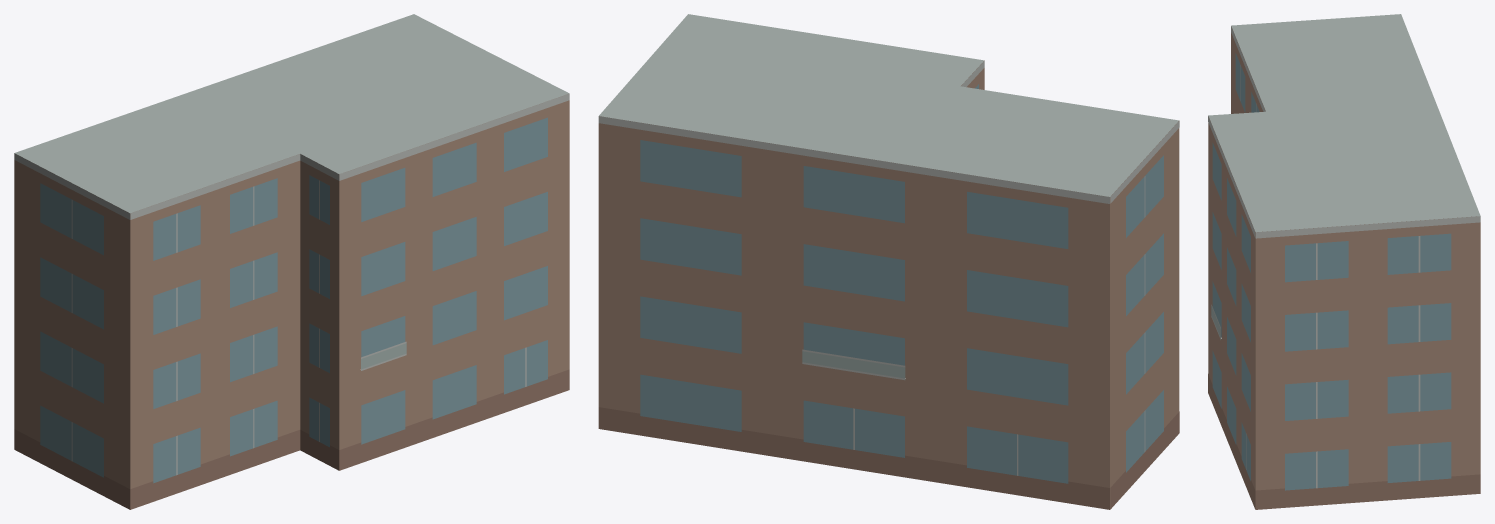
File: survey-upis-32933291.glb
3 renders of one model, left to right at view 1: azimuth 30°, elevation 25°; view 2: azimuth 150°, elevation 25°; view 3: azimuth 270°, elevation 25°, orthographic. The views are drawn at different scales.
Visible parts, largest first — view 1: survey-upis-32933291.tmp; view 2: survey-upis-32933291.tmp; view 3: survey-upis-32933291.tmp.
Part boxes in pixels (x1,y1,x2,y2): survey-upis-32933291.tmp: [14, 14, 569, 509]; survey-upis-32933291.tmp: [598, 14, 1179, 509]; survey-upis-32933291.tmp: [1208, 14, 1480, 509].
Bounding box in the file's own units: 18.05 × 10.7 × 9.53.
